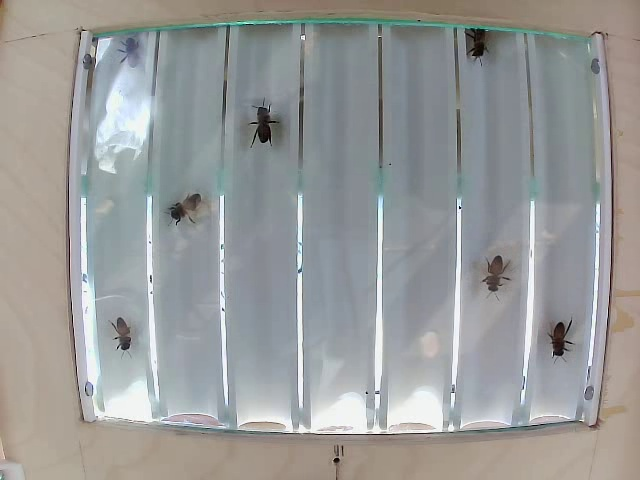bee: (245, 94, 279, 152), (545, 305, 575, 370), (483, 248, 512, 311), (468, 21, 501, 72), (161, 188, 206, 224), (111, 31, 147, 71), (102, 316, 135, 357)
